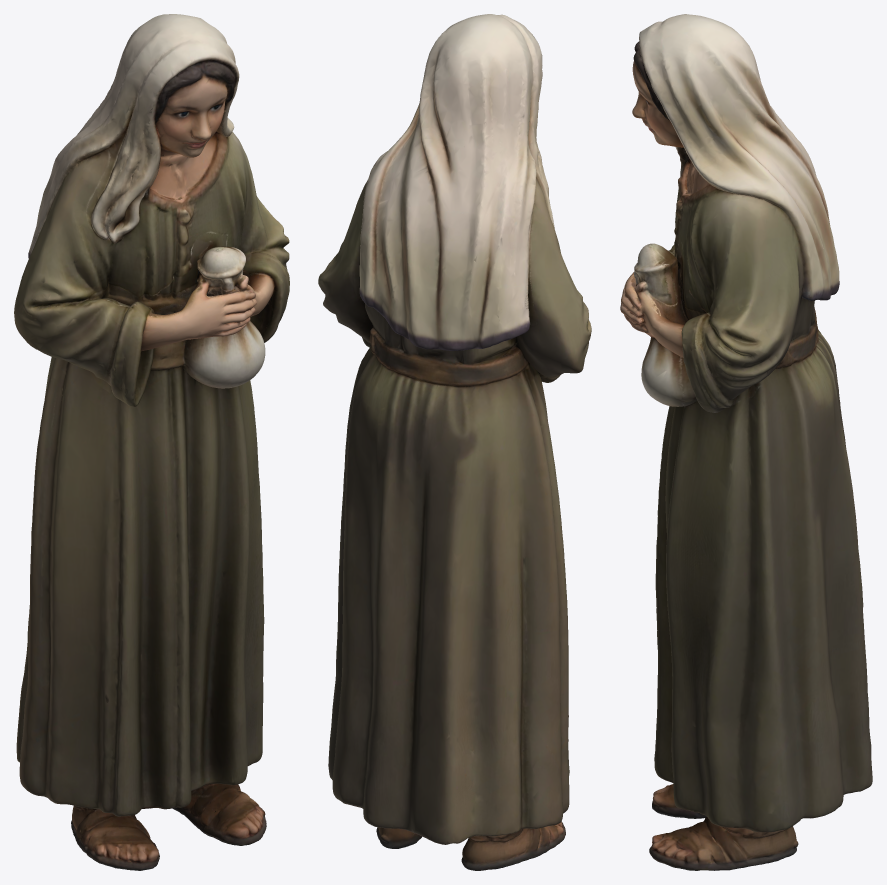
Rendered from Meshy_AI_Peasant_Holding_Bag_0319015042_texture.glb.
3 views of the same model, side by side, from view 1: azimuth 30°, elevation 25°; view 2: azimuth 150°, elevation 25°; view 3: azimuth 270°, elevation 25° (orthographic). The views are drawn at different scales.
Bounding box in the file's own units: 0.6425 × 1.9 × 0.5349.
1 material, 1 textured.
